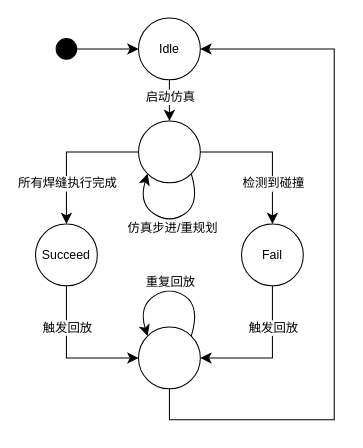
Some shapes in this 363 by 448 pixel diagram are drawn without their labels. Each missing label, with the centre of its shape:
Replay: pixel 169 357
Work: pixel 169 151
